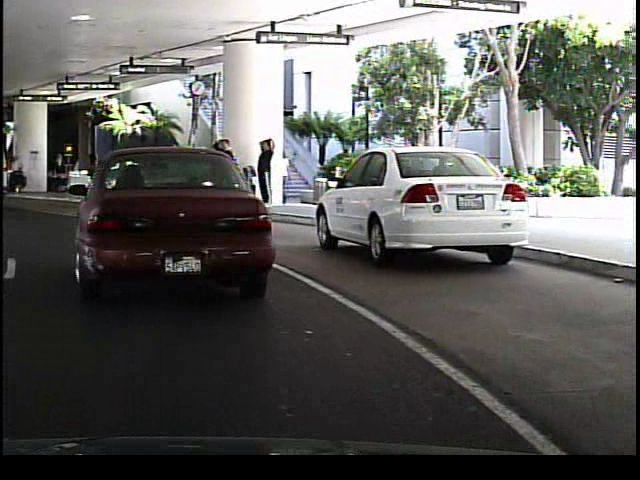person: (210, 133, 235, 210), (253, 134, 275, 210), (272, 146, 295, 207), (96, 156, 121, 196)
